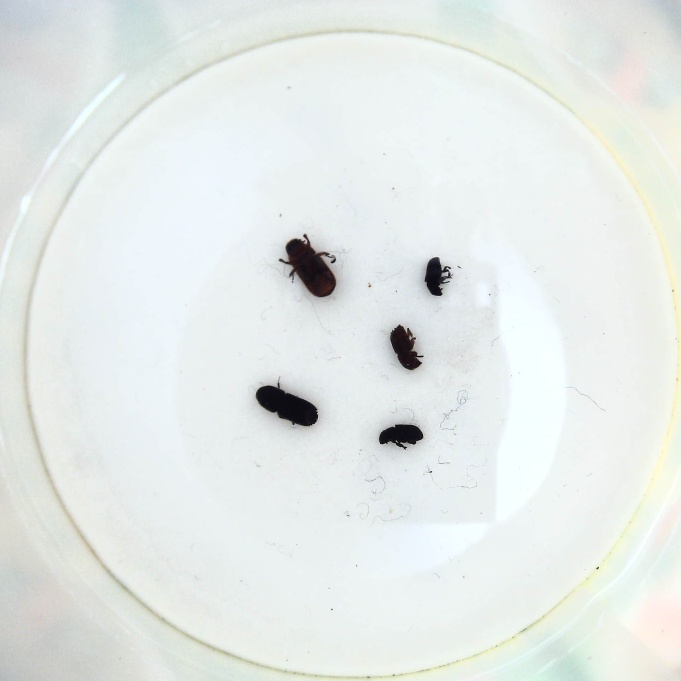armandi: (375, 421, 423, 452)
boerner: (253, 383, 319, 429)
coleoptera: (424, 255, 455, 300)
leconte: (275, 231, 340, 300)
linnaeus: (389, 321, 424, 374)
